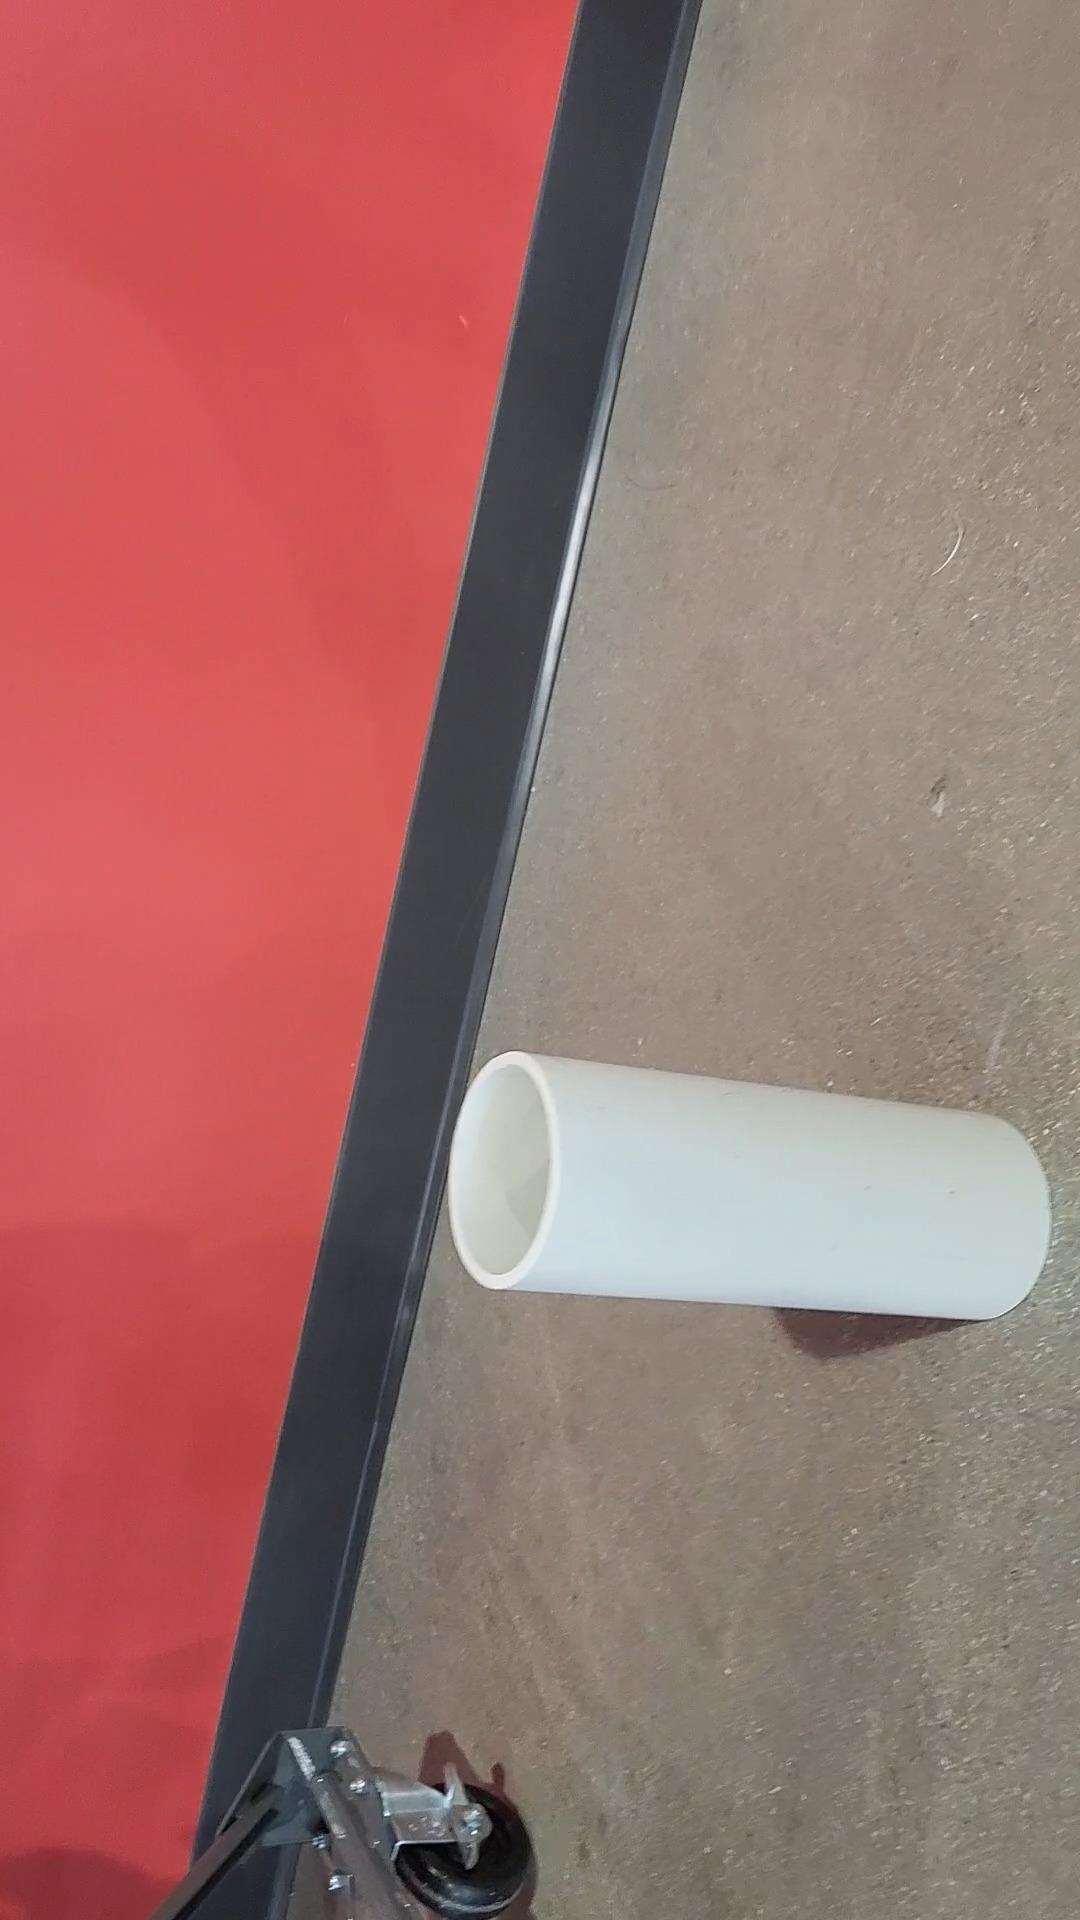coral: (452, 1052, 1047, 1323)
